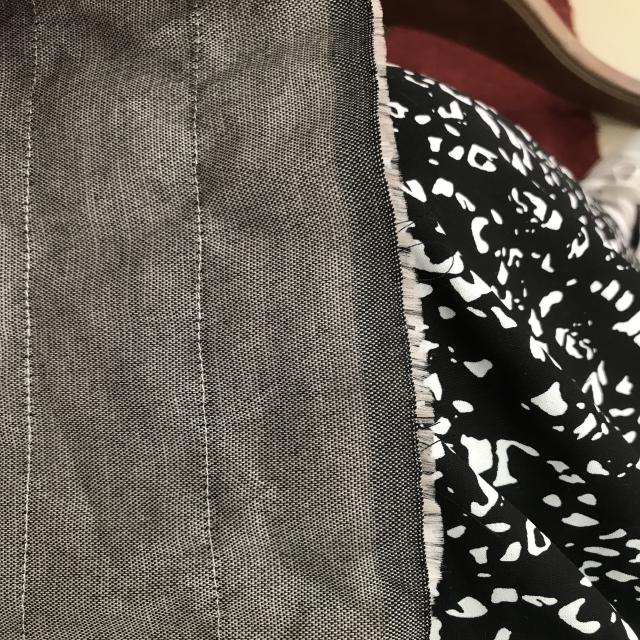good: (176, 176, 224, 387), (16, 304, 51, 512), (196, 396, 227, 572)
